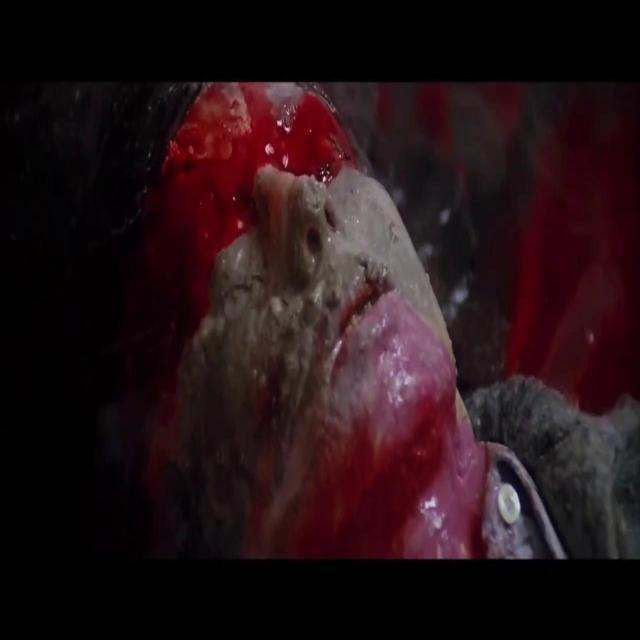flood: (136, 74, 502, 568)
